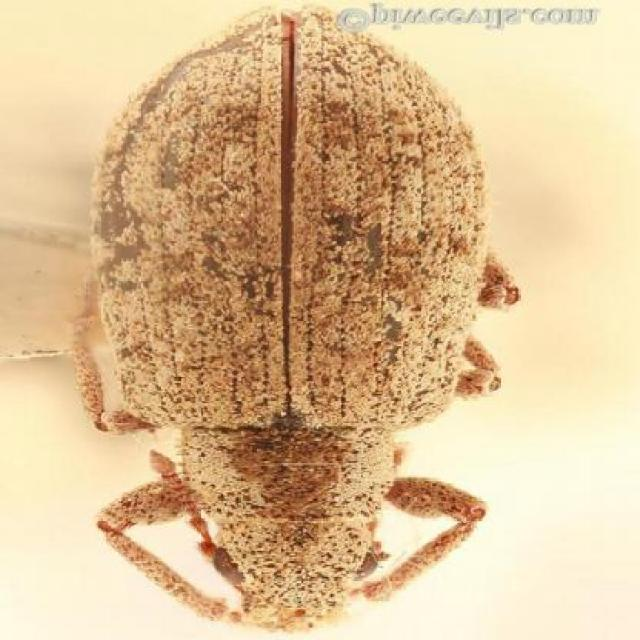rice-bug: (72, 6, 528, 631)
